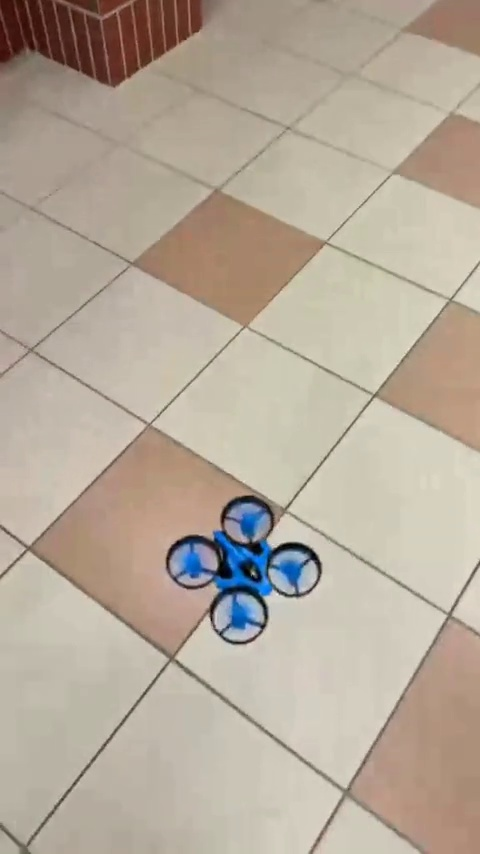drone: (165, 494, 322, 646)
